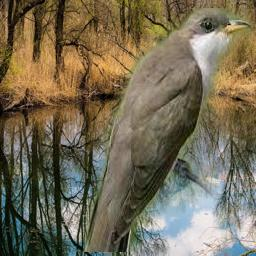Cuckoo: (83, 8, 251, 252)
